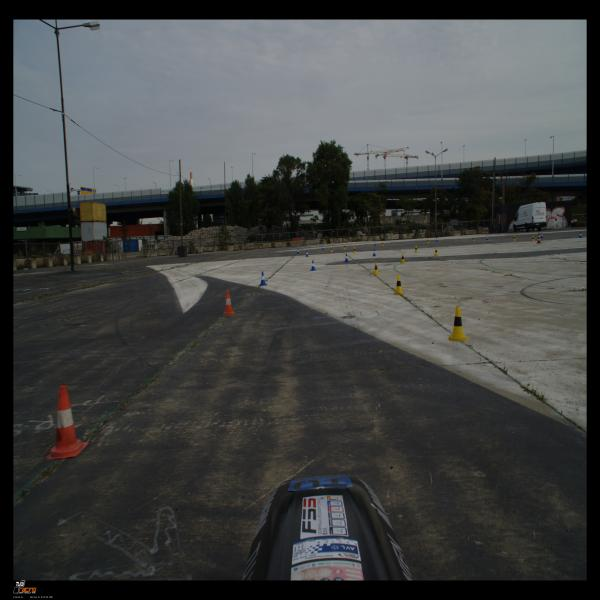blue_cone: (259, 272, 267, 286), (310, 260, 316, 271), (344, 254, 349, 262), (578, 232, 582, 238), (373, 249, 376, 256), (540, 234, 544, 238), (297, 249, 300, 254), (306, 250, 308, 256), (435, 238, 438, 242), (322, 245, 324, 250), (374, 241, 376, 246), (486, 236, 488, 240)
large_orange_cone: (536, 233, 542, 243)
orange_cone: (43, 385, 89, 460), (222, 290, 236, 315)
yellow_cone: (449, 306, 467, 341), (393, 275, 405, 295), (373, 262, 380, 274), (400, 254, 406, 264), (434, 248, 439, 256), (414, 245, 418, 252), (512, 235, 516, 241), (531, 236, 535, 242), (353, 247, 356, 253), (330, 247, 333, 252), (472, 236, 475, 241), (381, 242, 384, 246), (344, 245, 346, 250), (427, 239, 429, 243)
